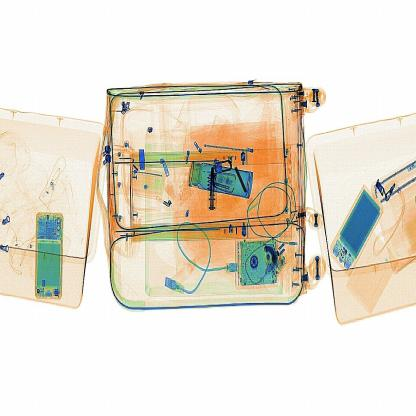scissors: (206, 166, 221, 214)
